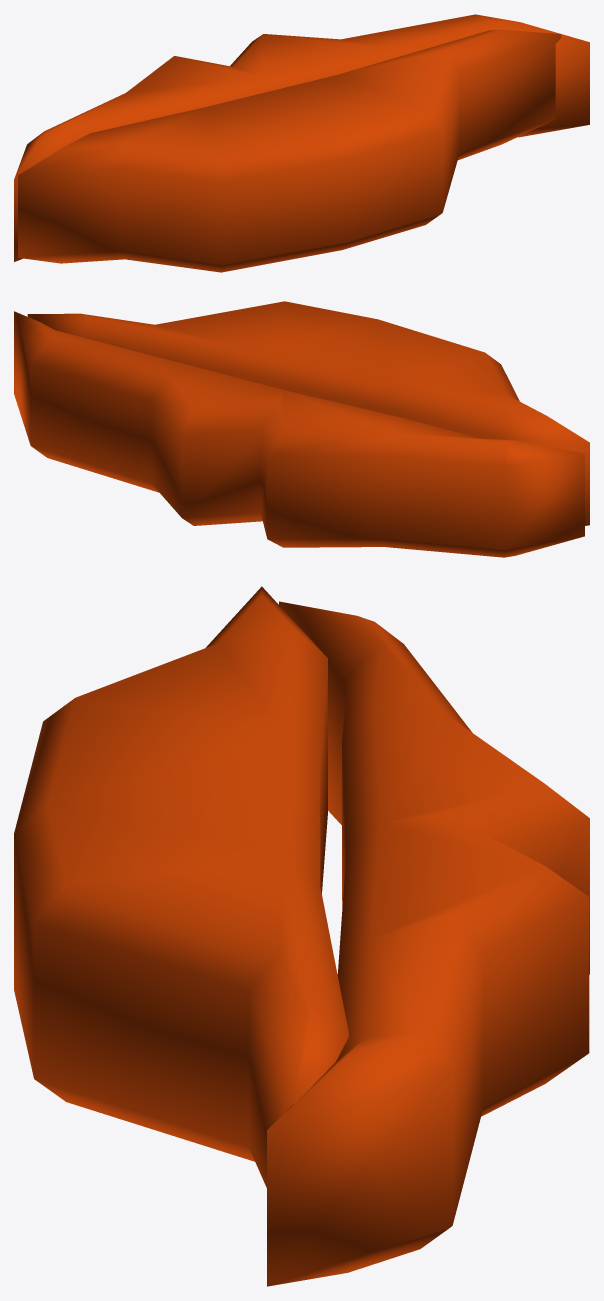
File: item-puke-lips.glb
The picture shows the model from 3 angles, top to bottom: view 1: azimuth 30°, elevation 25°; view 2: azimuth 150°, elevation 25°; view 3: azimuth 270°, elevation 25°; orthographic projection. The views are drawn at different scales.
Size of the model in its own units: 0.00127 by 0.000259 by 0.000583.
